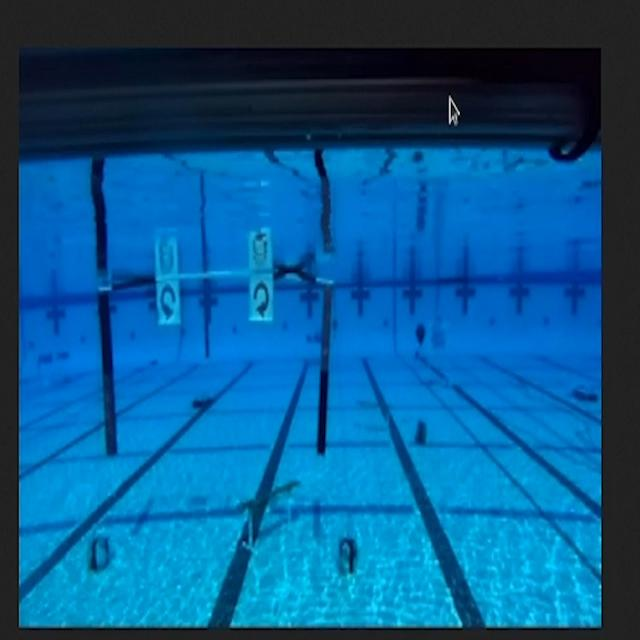Gate: (93, 266, 338, 468)
